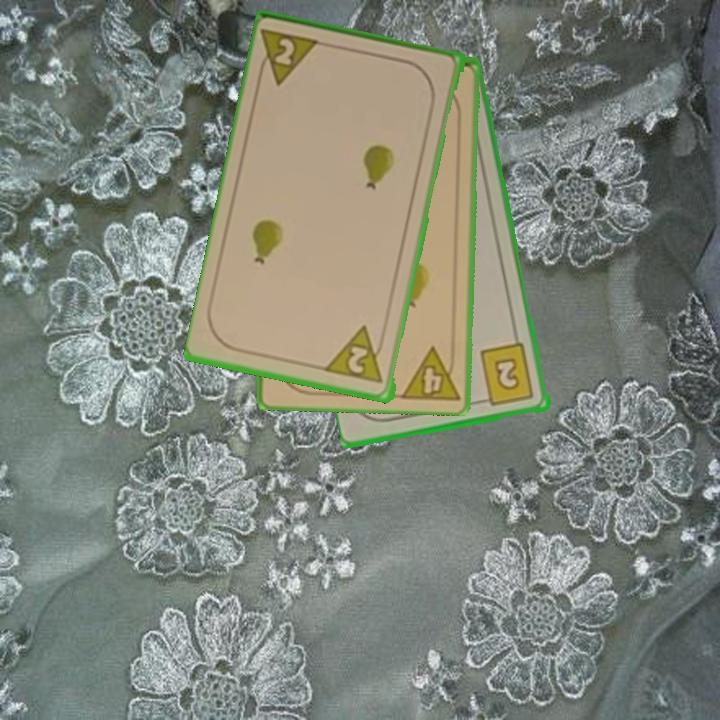2b: (476, 340, 537, 409)
2p: (254, 26, 326, 89), (324, 322, 387, 387)
4p: (397, 342, 462, 403)
